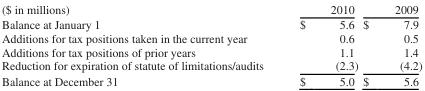table: (0, 0, 421, 88)
table column: (0, 0, 280, 88), (280, 0, 359, 88), (359, 0, 421, 88)
table column header: (0, 0, 421, 16)
table row: (0, 0, 421, 16), (0, 72, 421, 88), (0, 16, 421, 30), (0, 30, 421, 44), (0, 44, 421, 58), (0, 58, 421, 72)
